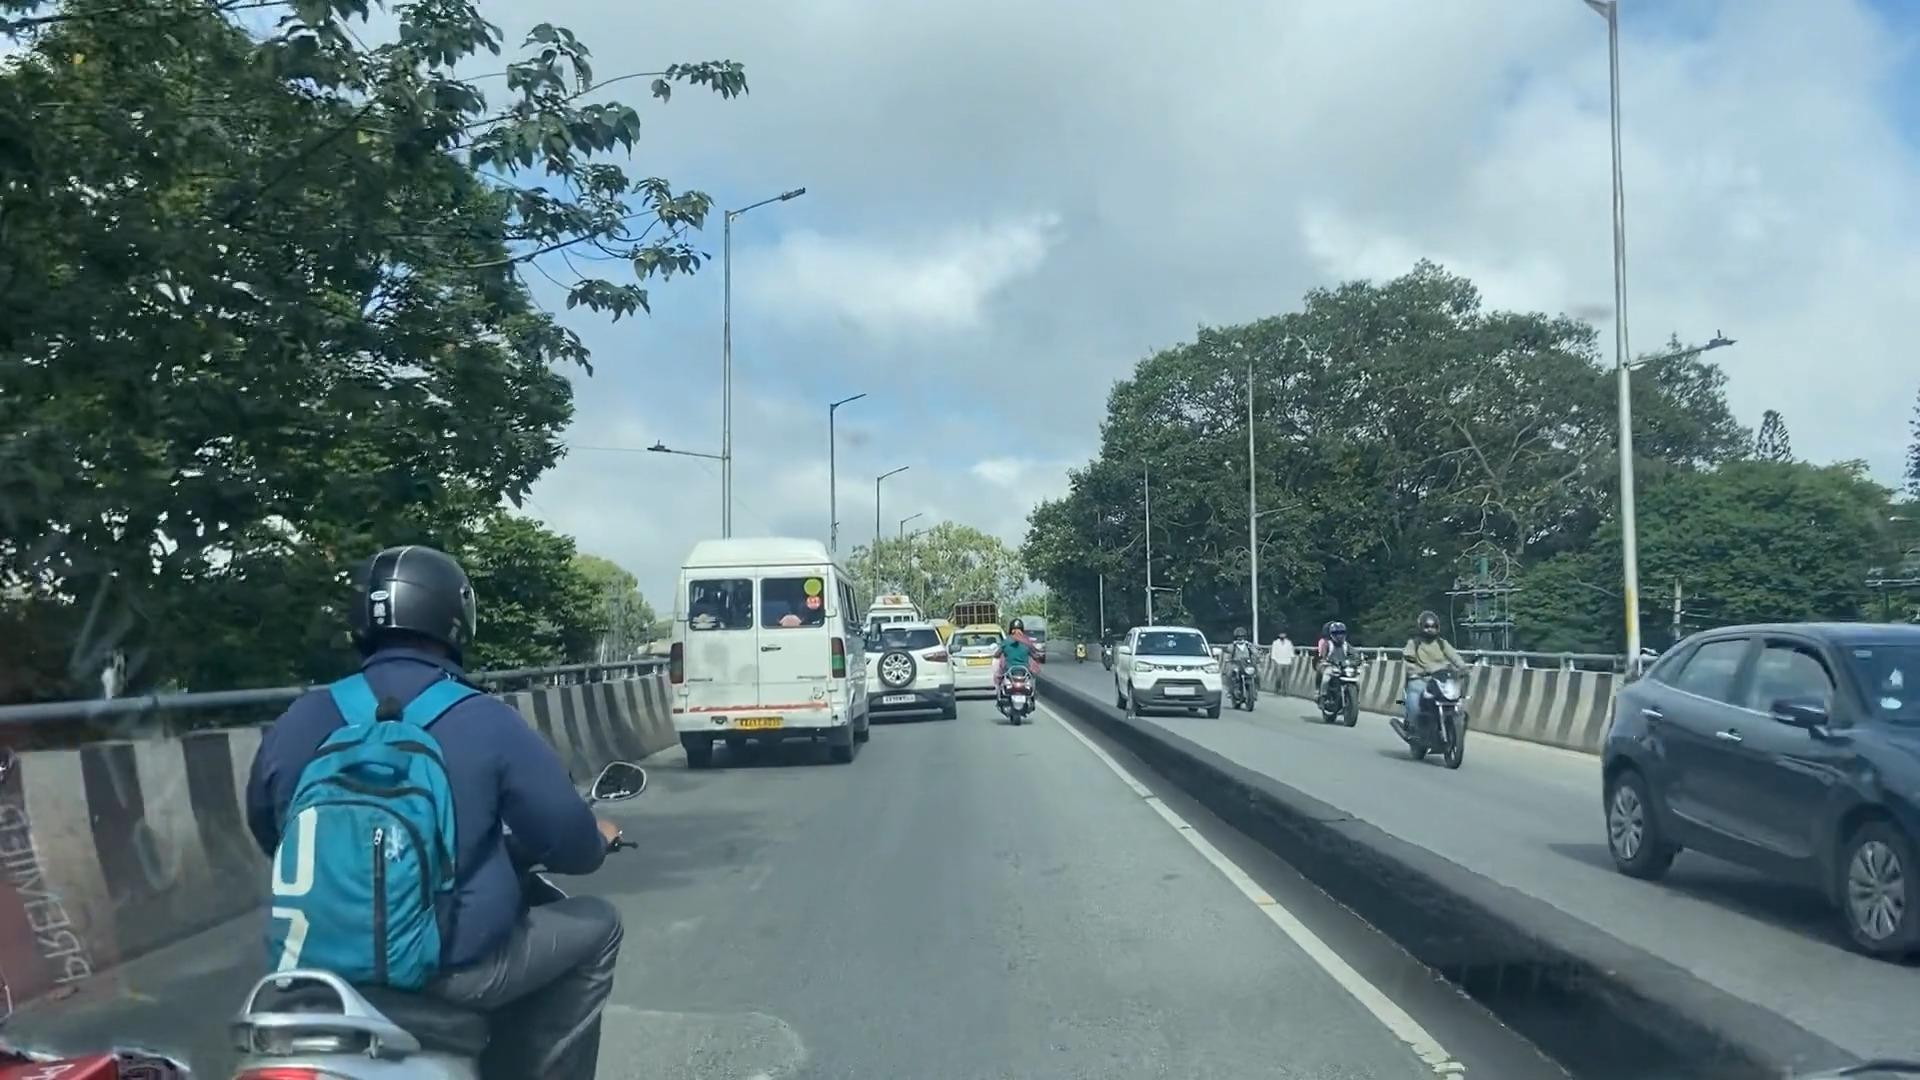HMV: (669, 550, 865, 753)
LMV: (1001, 617, 1034, 723)
